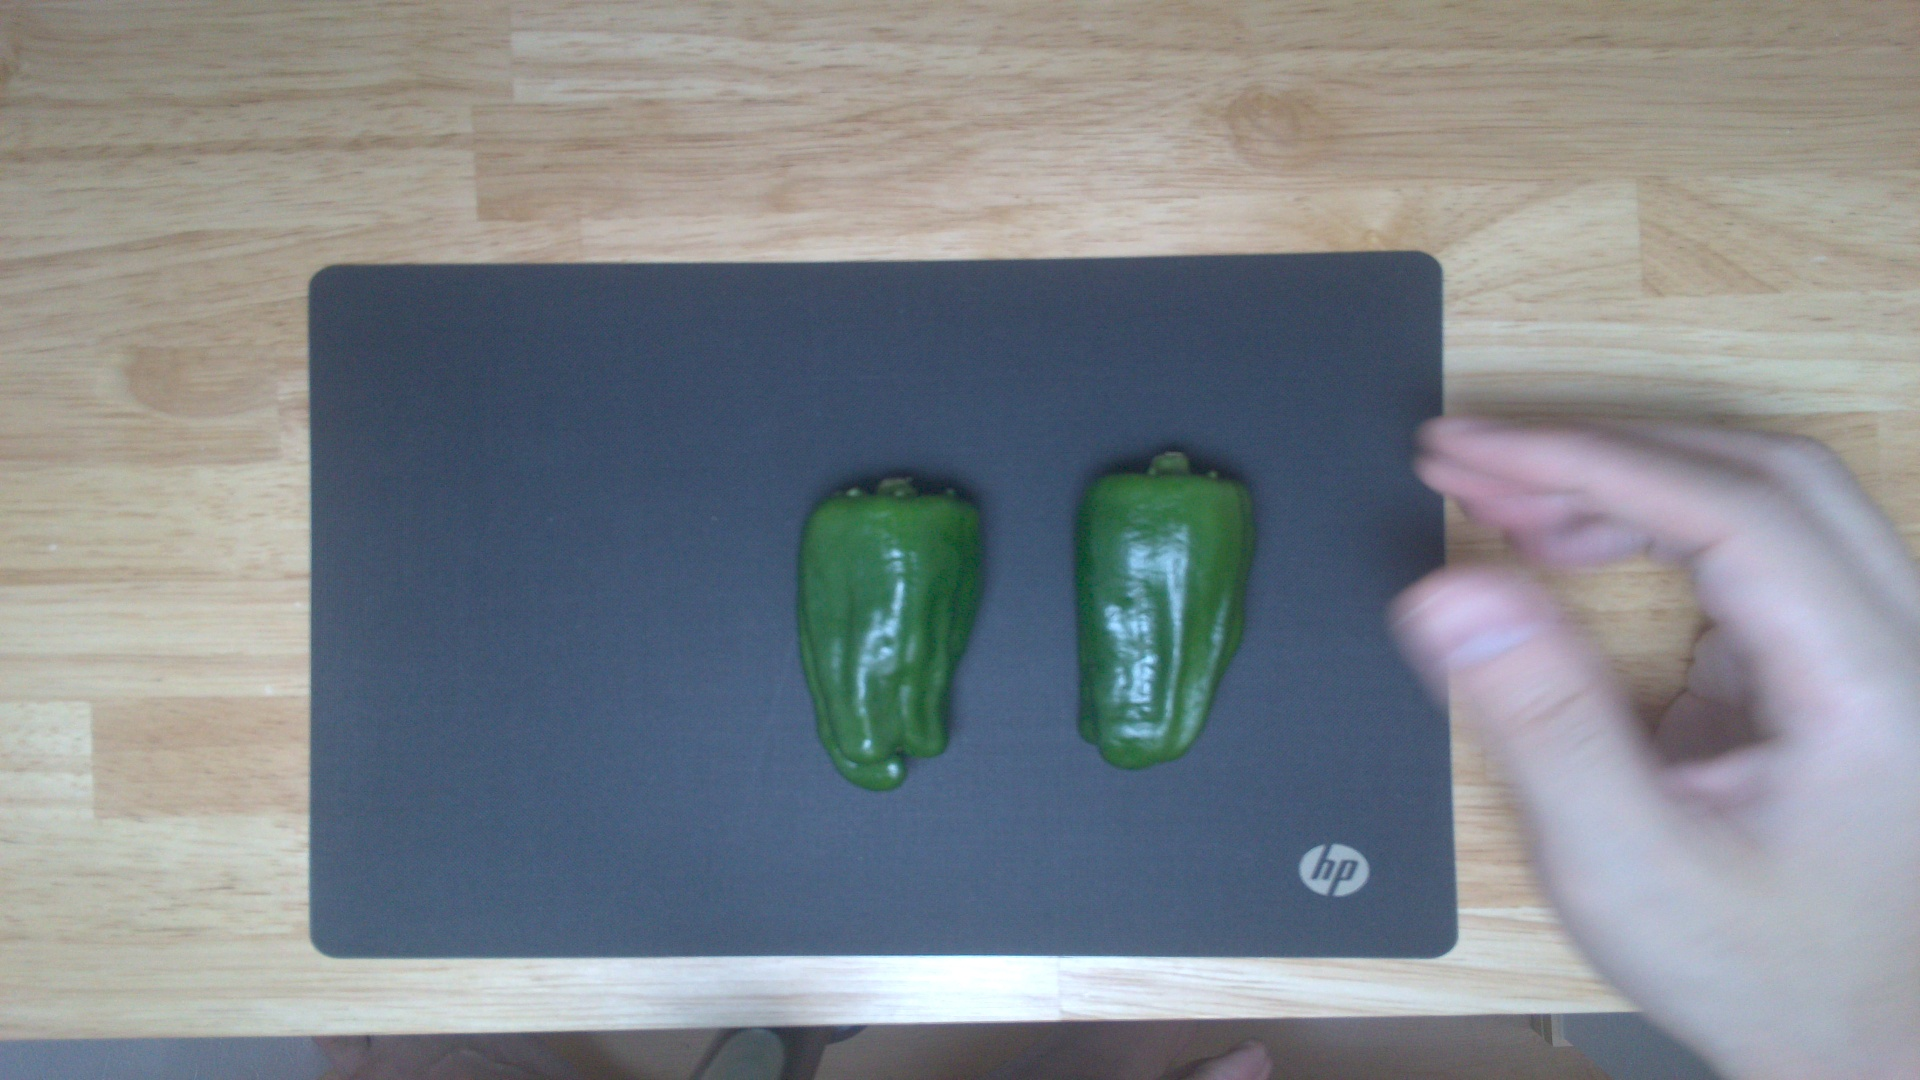Piman: (789, 467, 992, 795), (1073, 444, 1265, 767)
